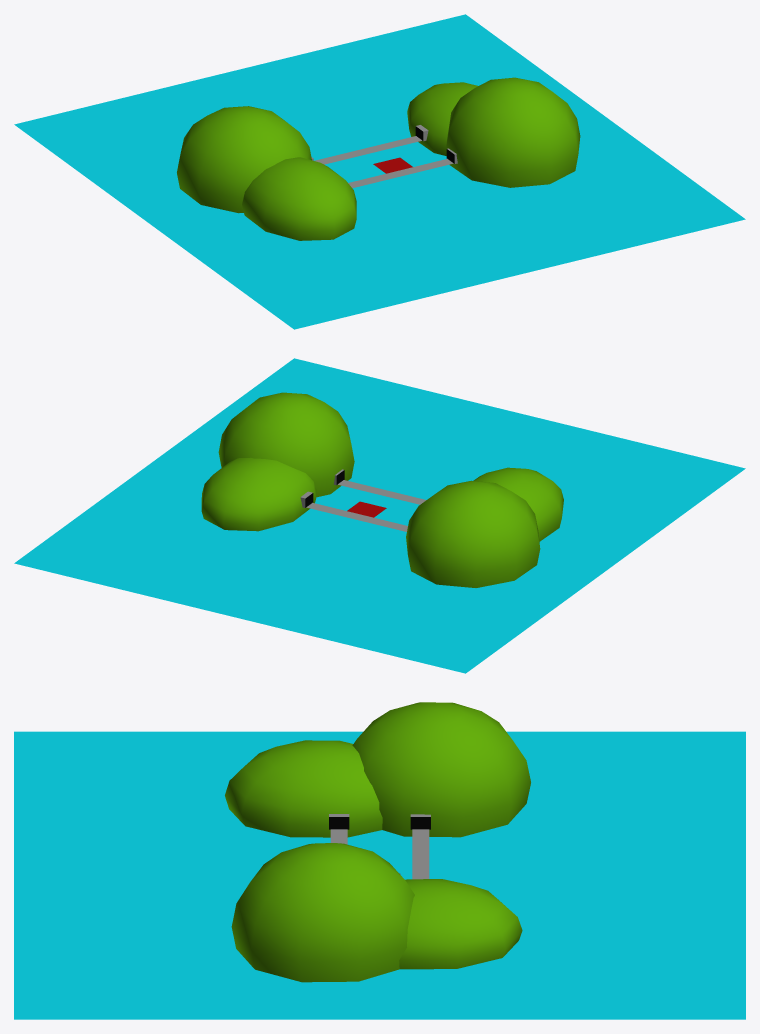
Rendered from Scale_Blockout_v2.fbx.
The picture shows the model from 3 angles, top to bottom: view 1: azimuth 30°, elevation 25°; view 2: azimuth 150°, elevation 25°; view 3: azimuth 270°, elevation 25°; orthographic projection. The views are drawn at different scales.
Visible parts, largest first — view 1: Hill_1; view 2: Hill_1; view 3: Hill_1.
Part boxes in pixels (bbox=[...]): Hill_1: bbox=[14, 14, 745, 329]; Hill_1: bbox=[14, 358, 745, 673]; Hill_1: bbox=[14, 702, 745, 1019].
Bounding box in the file's own units: 397 × 427 × 64.7.
